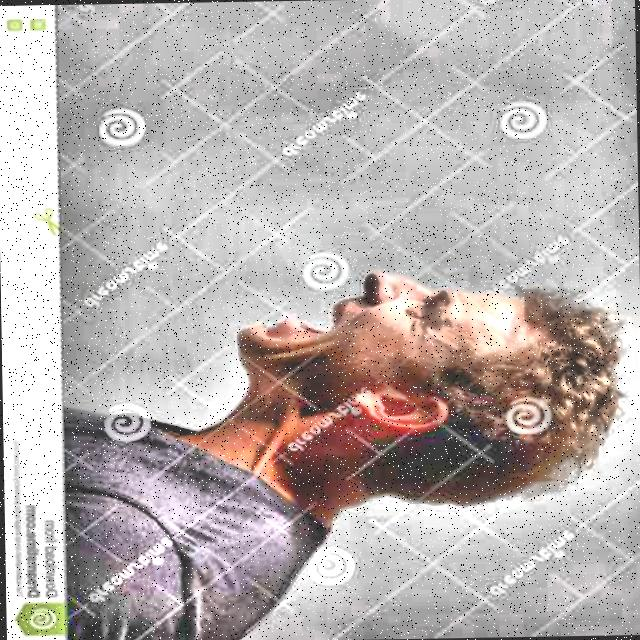happy: (209, 268, 631, 527)
